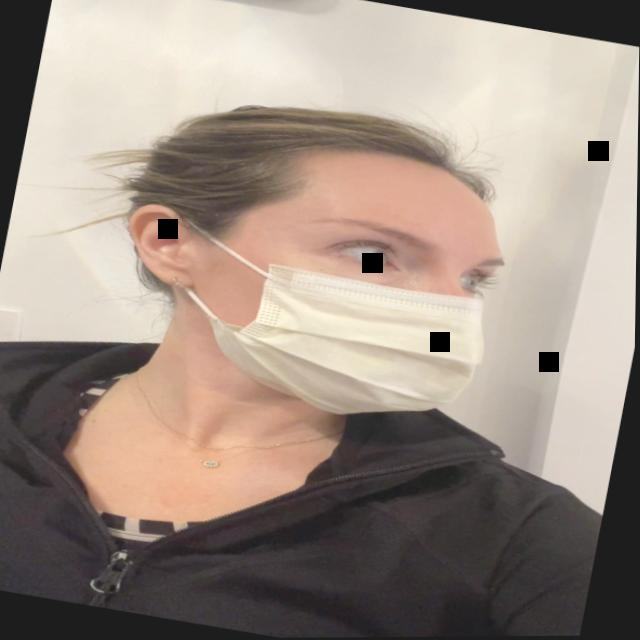Mask: (76, 82, 553, 486)
